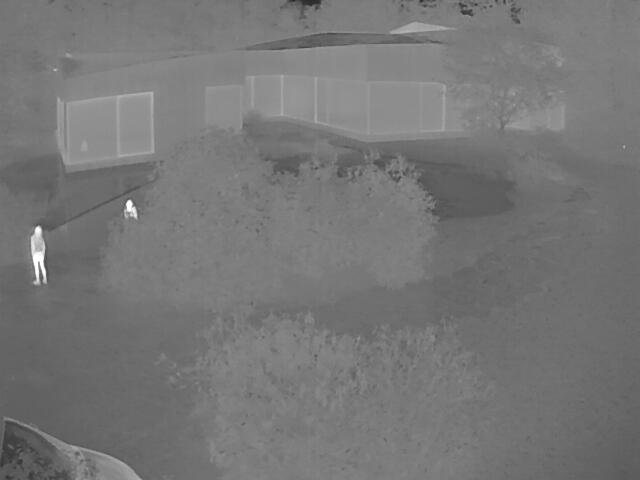person: (29, 226, 48, 286), (121, 198, 138, 219)
